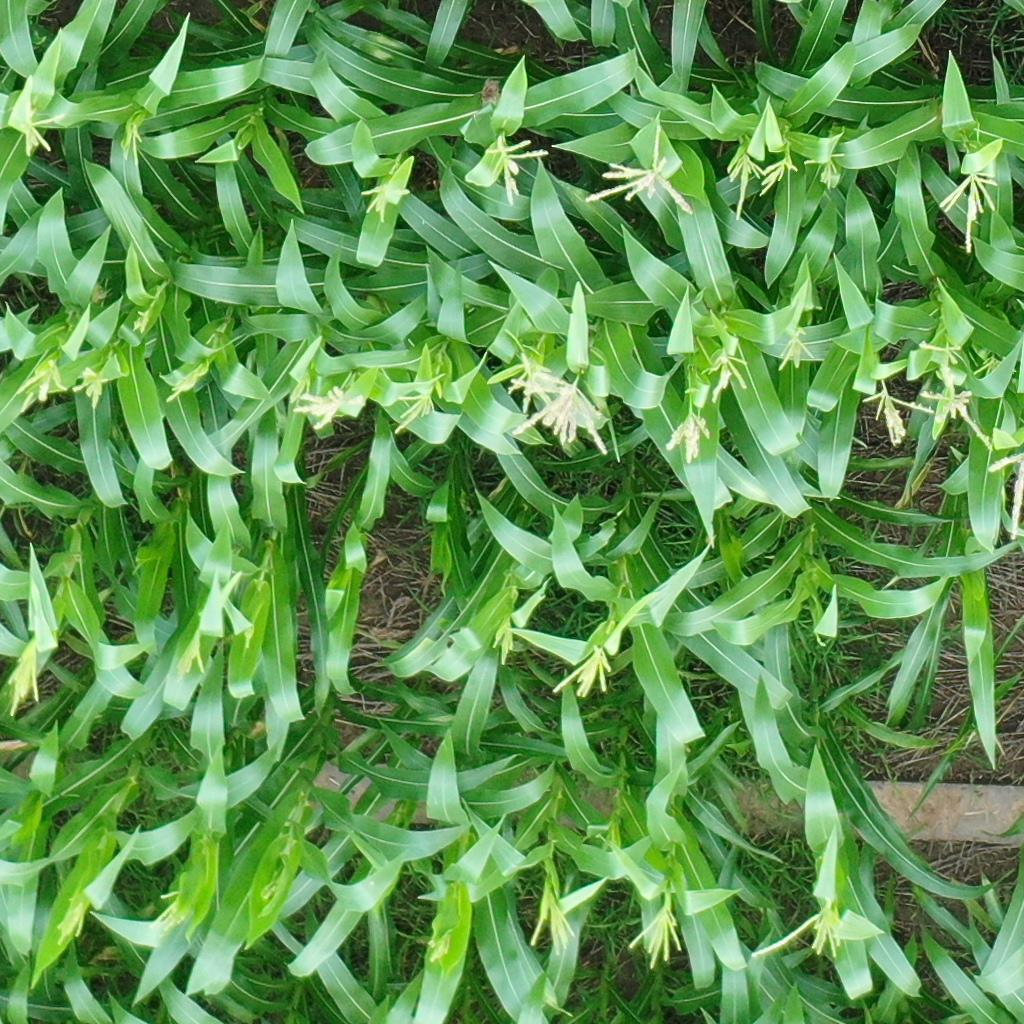Tassel: (585, 113, 697, 217), (510, 376, 615, 459), (921, 372, 992, 448), (752, 905, 846, 961), (939, 167, 999, 254), (484, 139, 549, 208), (626, 900, 688, 969), (859, 386, 934, 442), (3, 637, 46, 718), (548, 649, 614, 700), (988, 449, 1024, 541), (293, 386, 364, 431), (528, 895, 580, 956), (506, 351, 563, 406), (18, 102, 69, 162), (729, 153, 765, 221), (703, 355, 751, 404), (18, 366, 69, 409), (666, 413, 711, 461), (357, 184, 411, 223), (390, 395, 438, 437), (801, 147, 845, 189), (147, 891, 189, 934), (778, 328, 816, 374), (760, 157, 798, 199), (488, 619, 518, 666), (57, 902, 89, 944), (69, 377, 111, 407), (918, 341, 961, 368), (180, 632, 207, 671), (123, 124, 144, 169), (163, 374, 192, 406), (426, 934, 452, 962), (973, 354, 1002, 378), (129, 311, 149, 336)
